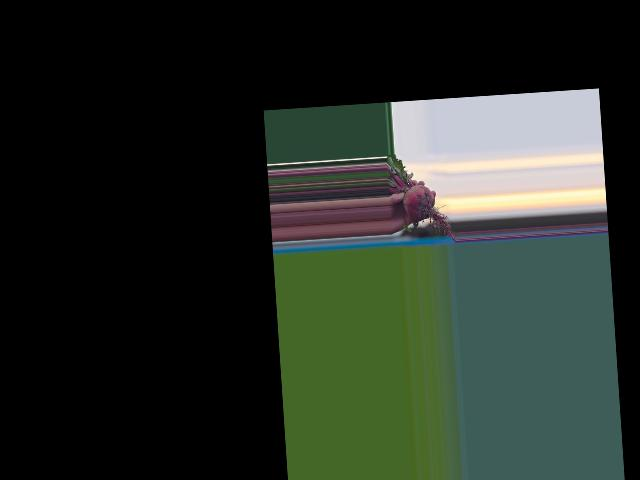beet: (386, 150, 456, 245)
